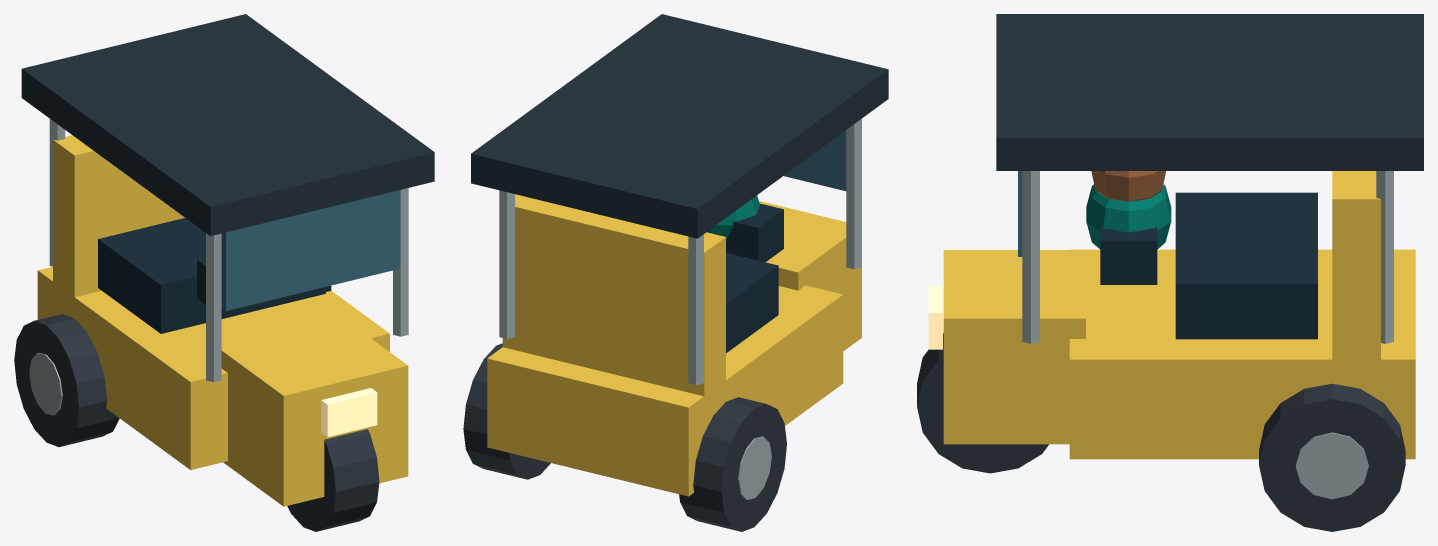
File: traffic-keke.glb
3 renders of one model, left to right at view 1: azimuth 30°, elevation 25°; view 2: azimuth 150°, elevation 25°; view 3: azimuth 270°, elevation 25°, orthographic. The views are drawn at different scales.
Parts seen in each view (by area): view 1: keke yellow, keke black, keke glass, keke rubber, keke dark, keke chrome, keke glow_lamp; view 2: keke yellow, keke black, keke rubber, keke chrome, keke dark, keke glass, keke teal; view 3: keke yellow, keke black, keke dark, keke rubber, keke chrome, keke teal, keke wood, keke glow_lamp.
Boxes of the visible parts, x1,y1,x2,y2 form: keke yellow: (37,135,408,506); keke black: (21,14,434,235); keke glass: (221,190,400,310); keke rubber: (14,314,379,531); keke dark: (98,218,331,333); keke chrome: (29,119,408,415); keke glow_lamp: (321,388,377,437); keke yellow: (487,194,861,496); keke black: (471,14,888,238); keke rubber: (463,343,786,531); keke chrome: (499,118,861,499); keke dark: (726,203,783,353); keke glass: (784,130,846,191); keke teal: (707,195,759,239); keke yellow: (943,171,1415,459); keke black: (996,14,1423,170); keke dark: (1100,192,1317,339); keke rubber: (917,333,1405,531); keke chrome: (1022,171,1393,499); keke teal: (1086,184,1171,249); keke wood: (1091,171,1165,201); keke glow_lamp: (928,285,942,349).
Size of the model in its own units: 0.828 by 1.04 by 1.25.
